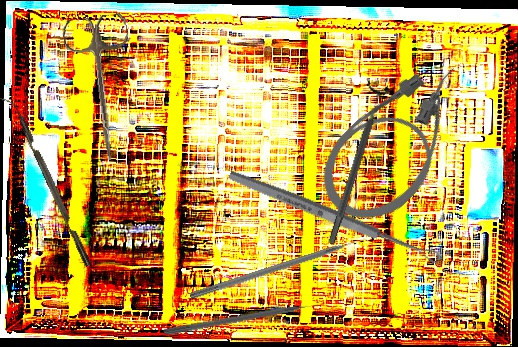Cannula: (301, 45, 498, 242)
Chopper: (0, 91, 92, 272)
Fixation Ring: (318, 80, 393, 248)
Hook Surgical: (189, 235, 369, 302)
Iris Scissors: (61, 12, 145, 164)
Pusher: (162, 299, 329, 338)
Surgical Spoon: (226, 167, 443, 267)
